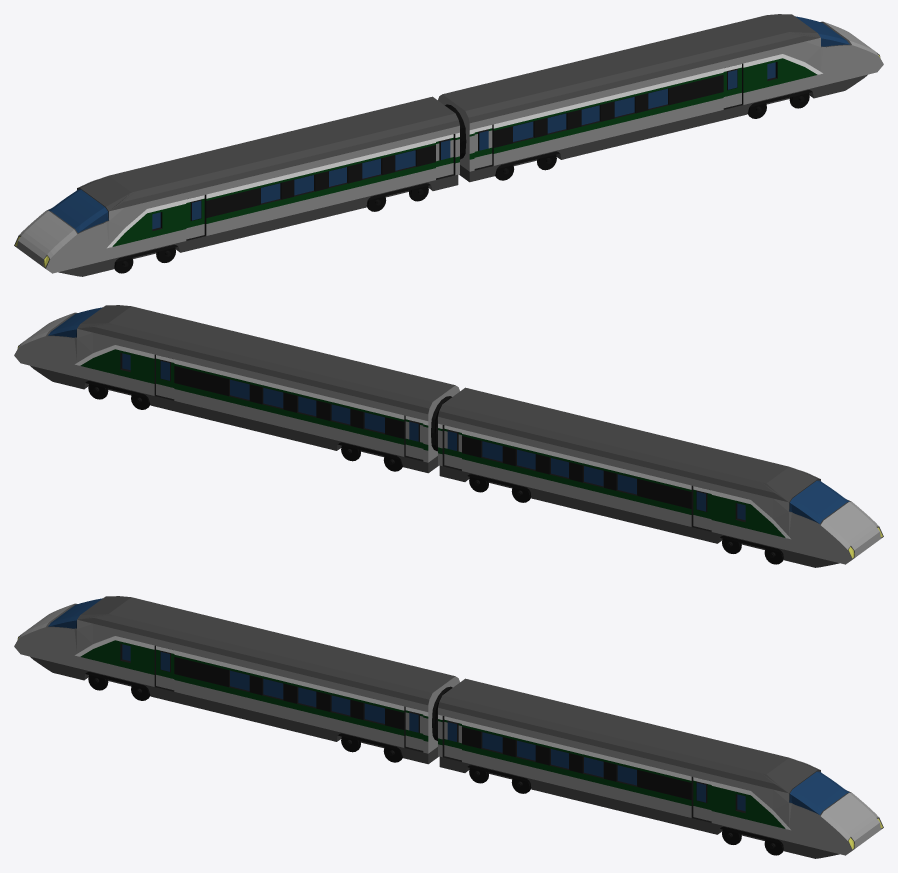
Rendered from pociąg ekspresowy.FBX.
3 renders of one model, top to bottom at view 1: azimuth 30°, elevation 25°; view 2: azimuth 150°, elevation 25°; view 3: azimuth 330°, elevation 25°, orthographic.
Visible parts, largest first — view 1: Plane003, wagon; view 2: Plane003, wagon; view 3: wagon, Plane003.
Boxes of the visible parts, x1=… form: Plane003: x1=14, y1=96, x2=459, y2=276; wagon: x1=438, y1=14, x2=883, y2=182; Plane003: x1=438, y1=387, x2=883, y2=567; wagon: x1=14, y1=305, x2=459, y2=473; wagon: x1=438, y1=678, x2=883, y2=858; Plane003: x1=14, y1=596, x2=459, y2=764.
Bounding box in the file's own units: 182 × 16.11 × 12.2.
